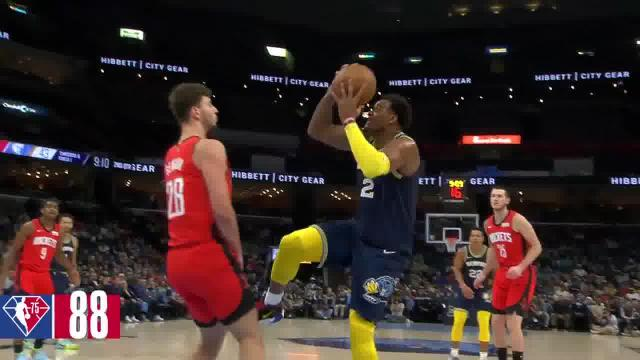ball-handler: (250, 59, 422, 360)
player: (154, 80, 263, 360), (484, 178, 544, 360), (8, 192, 60, 360), (450, 225, 493, 360), (50, 214, 80, 360)
